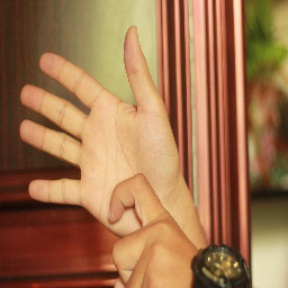R: (16, 24, 201, 288)
